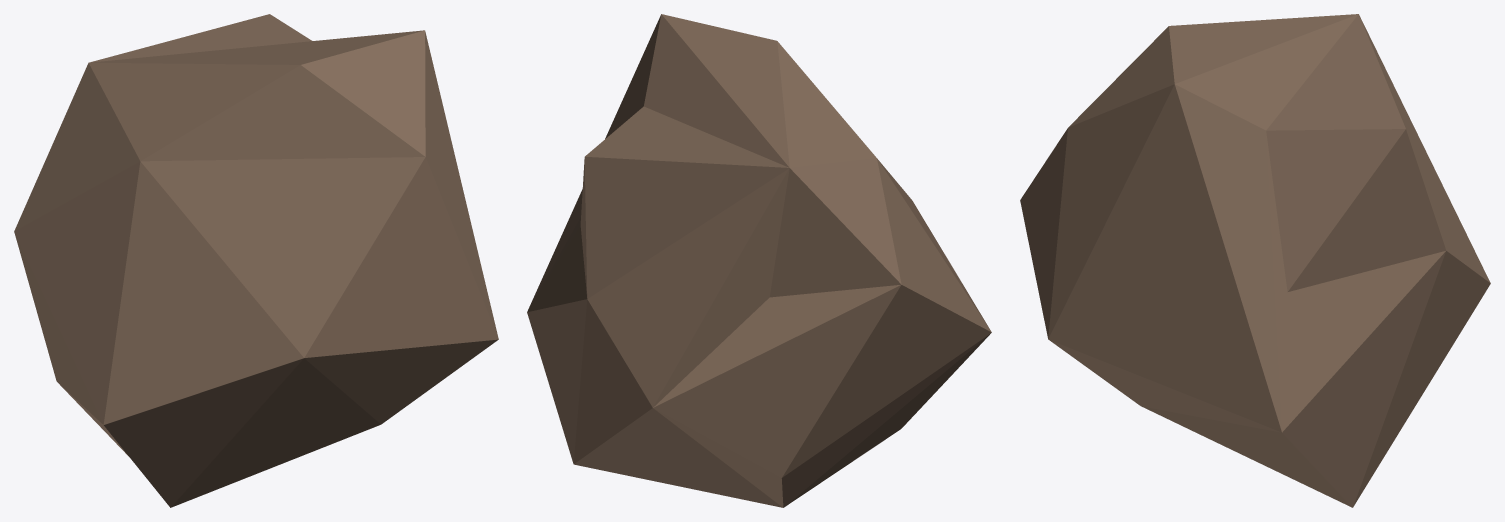
File: RoundRock1.fbx
3 renders of one model, left to right at view 1: azimuth 30°, elevation 25°; view 2: azimuth 150°, elevation 25°; view 3: azimuth 270°, elevation 25°, orthographic. The views are drawn at different scales.
Visible parts, largest first — view 1: RoundRock1; view 2: RoundRock1; view 3: RoundRock1.
Part boxes in pixels (x1,y1,x2,y2): RoundRock1: (14,14,498,507); RoundRock1: (527,14,991,507); RoundRock1: (1020,14,1490,507).
Size of the model in its own units: 58.7 by 58.97 by 56.59.
